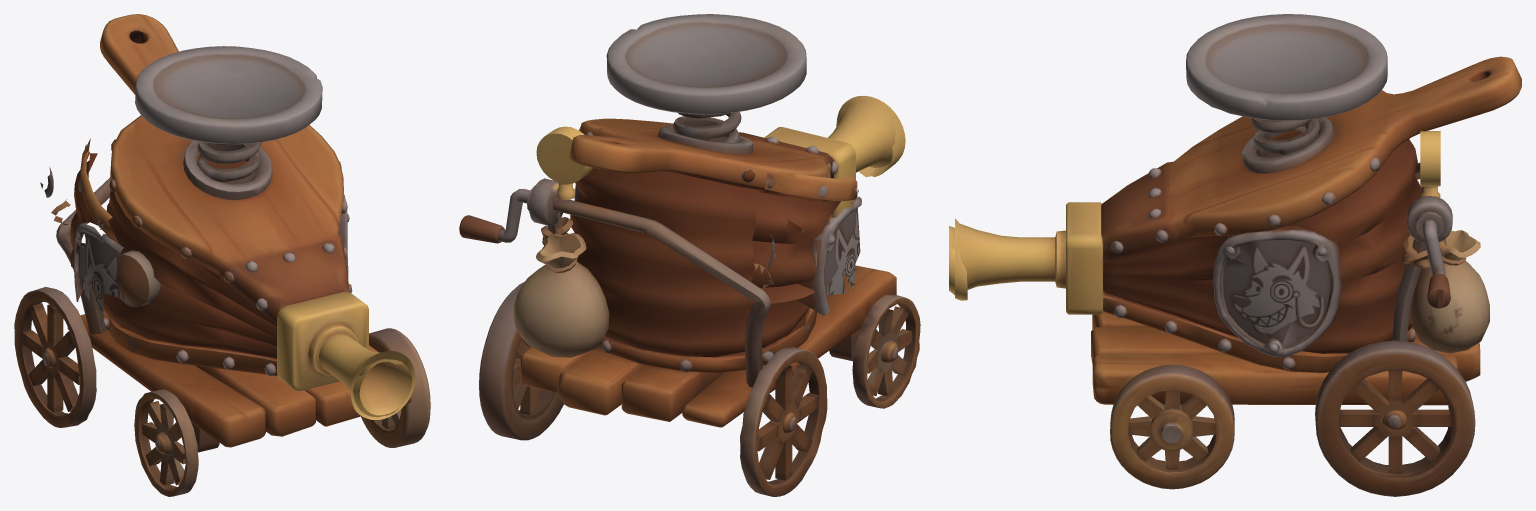
Rendered from bellows_machine_v3.glb.
3 renders of one model, left to right at view 1: azimuth 30°, elevation 25°; view 2: azimuth 150°, elevation 25°; view 3: azimuth 270°, elevation 25°, orthographic. The views are drawn at different scales.
Visible parts, largest first — view 1: bellows_machine_v2; view 2: bellows_machine_v2; view 3: bellows_machine_v2.
Boxes of the visible parts, <box> form: bellows_machine_v2: <box>14,14,430,496</box>; bellows_machine_v2: <box>459,14,920,496</box>; bellows_machine_v2: <box>949,14,1521,496</box>.
Bounding box in the file's own units: 2.8 × 3.2 × 4.42.
Materials: 1 (1 with a texture image).
